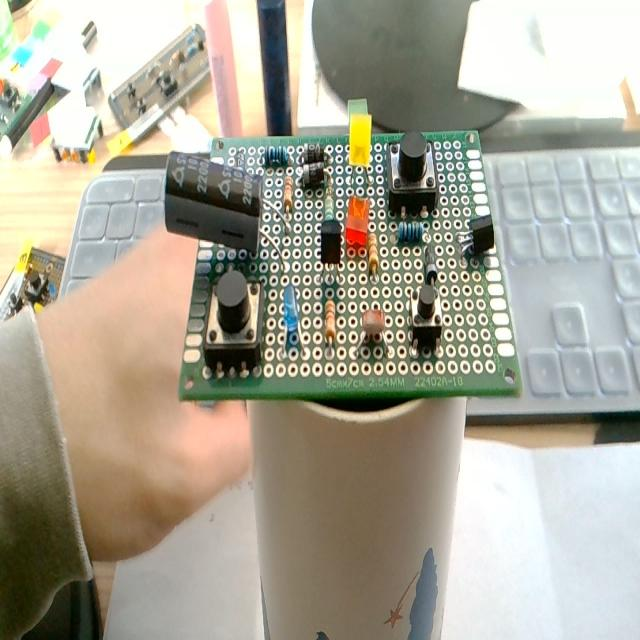Electrolytic capacitor: (156, 148, 296, 274)
cds: (354, 302, 392, 362)
diode: (302, 138, 332, 162), (297, 164, 331, 185)
led: (278, 277, 310, 353), (345, 116, 375, 190), (344, 186, 374, 250)
resistor: (393, 215, 425, 254), (364, 230, 382, 286), (320, 299, 337, 351), (280, 172, 296, 222)
switch: (202, 271, 268, 377), (382, 128, 440, 212), (407, 283, 449, 361)
transistor: (453, 204, 495, 268), (316, 212, 346, 290)
